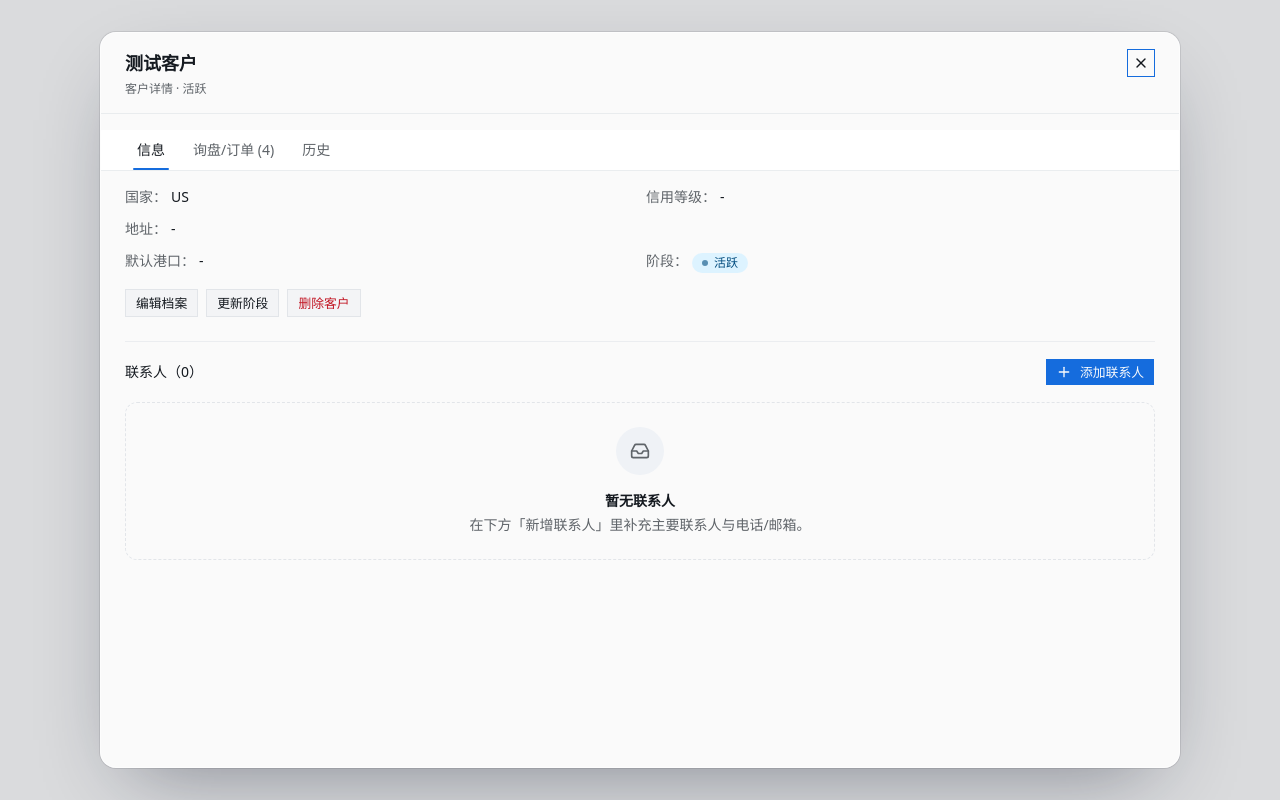
Test: 客户详情「询盘/订单」tab 计数（问题 5） › 计数 = 询盘数 + 订单数，且每个被计数的订单都能在 tab 内容里找到
What coordinates should you click on to do the following:
click the tab "询盘/订单 (4)"
I would click on:
 (234, 150)
Its box is left=181, top=130, right=286, bottom=170.
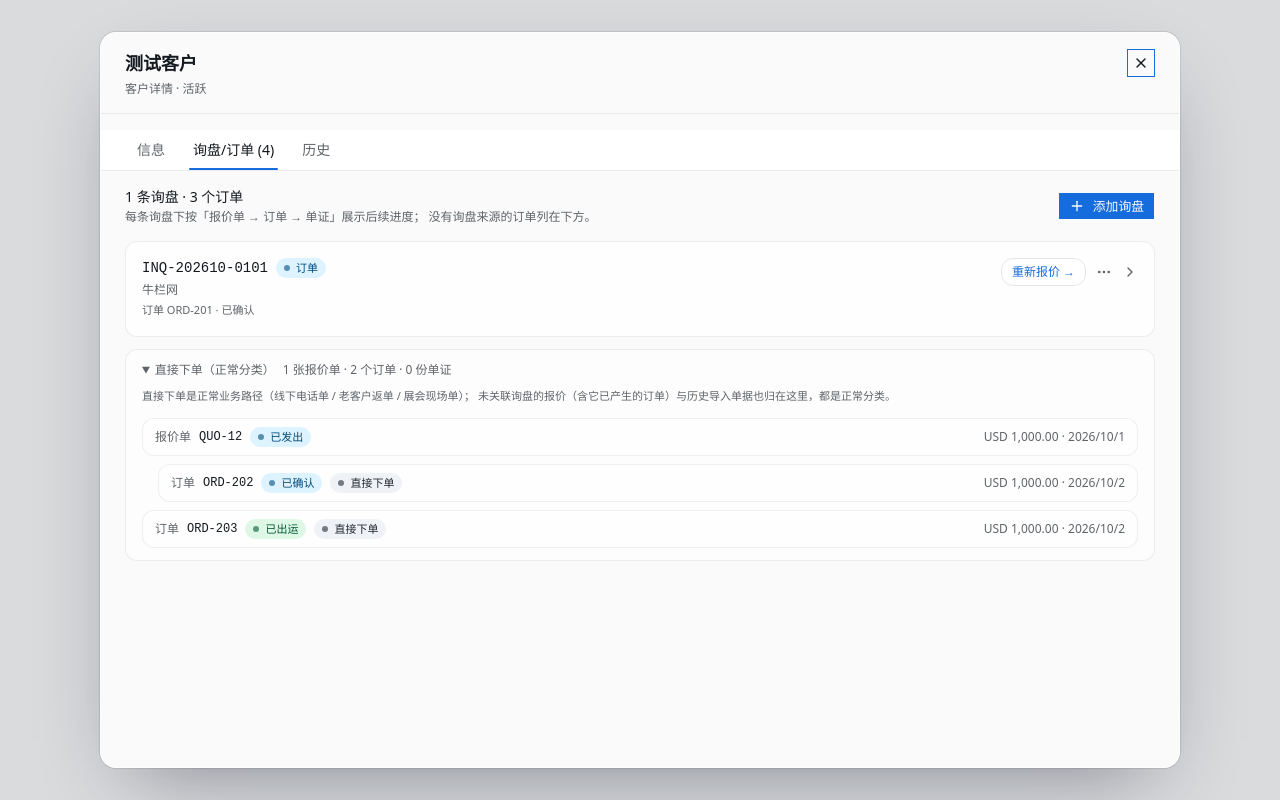
Check: the text "1 条询盘 · 3 个订单" is shown, box left=125, top=187, right=243, bottom=206
Check: the text "订单 ORD-201" is shown, box left=142, top=302, right=254, bottom=317
Check: the text "ORD-203" is shown, box left=187, top=521, right=237, bottom=537
